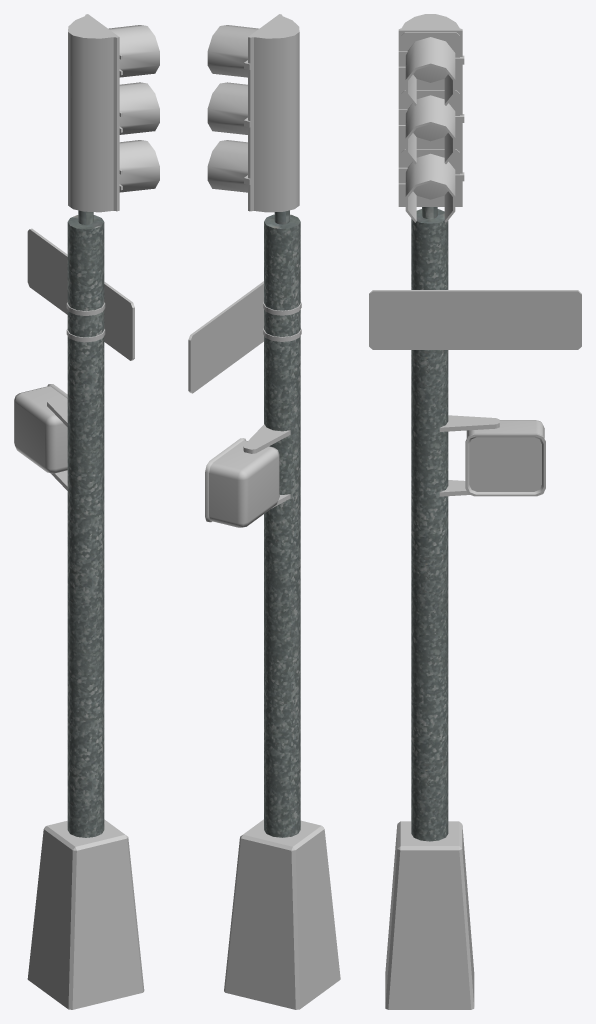
File: prp_crosswalkSign.fbx
The picture shows the model from 3 angles, left to right: view 1: azimuth 30°, elevation 25°; view 2: azimuth 150°, elevation 25°; view 3: azimuth 270°, elevation 25°; orthographic projection.
Parts seen in each view (by area): view 1: prp_crosswalkSign_LOD0; view 2: prp_crosswalkSign_LOD0; view 3: prp_crosswalkSign_LOD0.
Boxes of the visible parts, x1,y1,x2,y2 form: prp_crosswalkSign_LOD0: [14, 14, 159, 1009]; prp_crosswalkSign_LOD0: [188, 14, 340, 1009]; prp_crosswalkSign_LOD0: [369, 14, 581, 1009].
Bounding box in the file's own units: 57.91 × 529 × 105.
